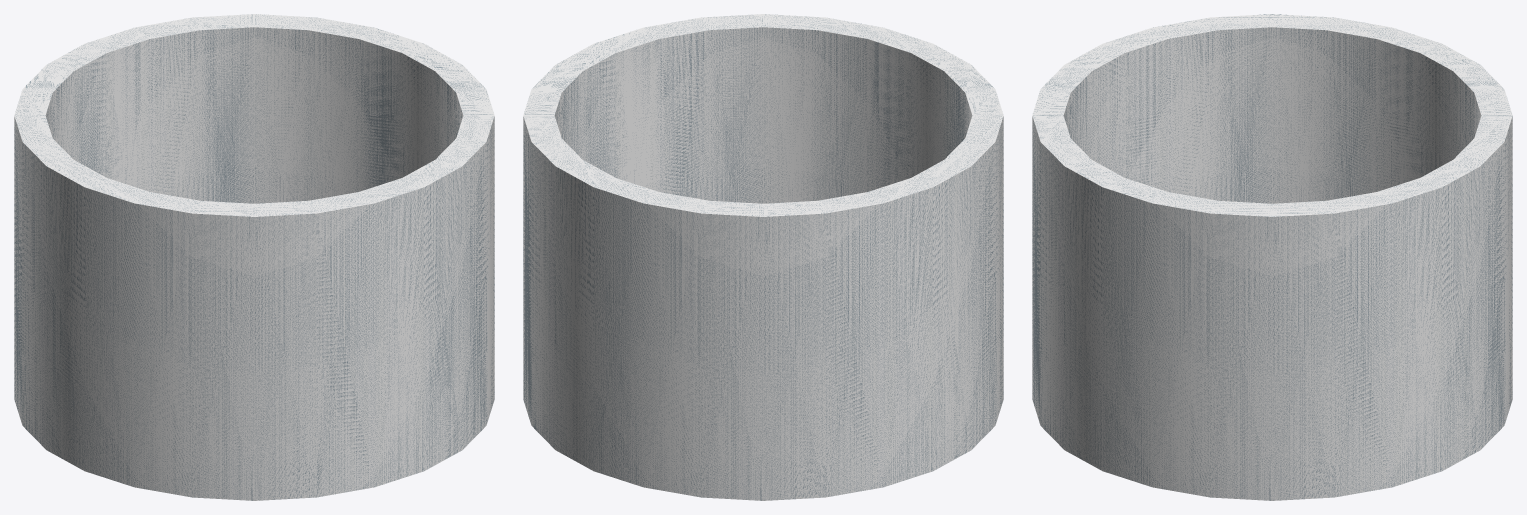
File: tonne.fbx
3 views of the same model, side by side, from view 1: azimuth 30°, elevation 25°; view 2: azimuth 150°, elevation 25°; view 3: azimuth 270°, elevation 25° (orthographic).
Visible parts, largest first — view 1: Model; view 2: Model; view 3: Model.
Boxes of the visible parts, x1,y1,x2,y2 form: Model: (14, 14, 494, 500); Model: (523, 14, 1003, 500); Model: (1032, 14, 1512, 500).
Size of the model in its own units: 0.46 by 0.3 by 0.46.
